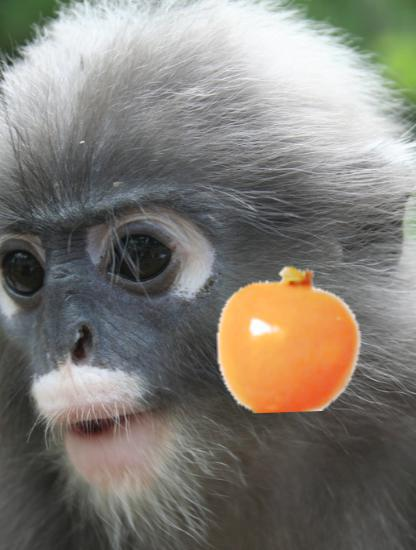Physalis: (215, 263, 365, 413)
